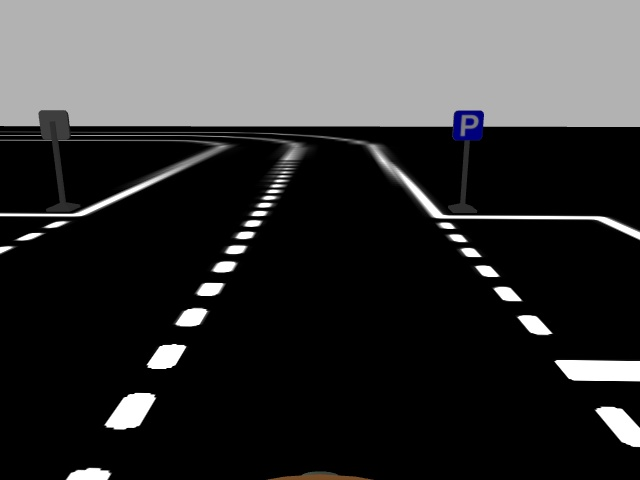parking: (452, 109, 484, 140)
